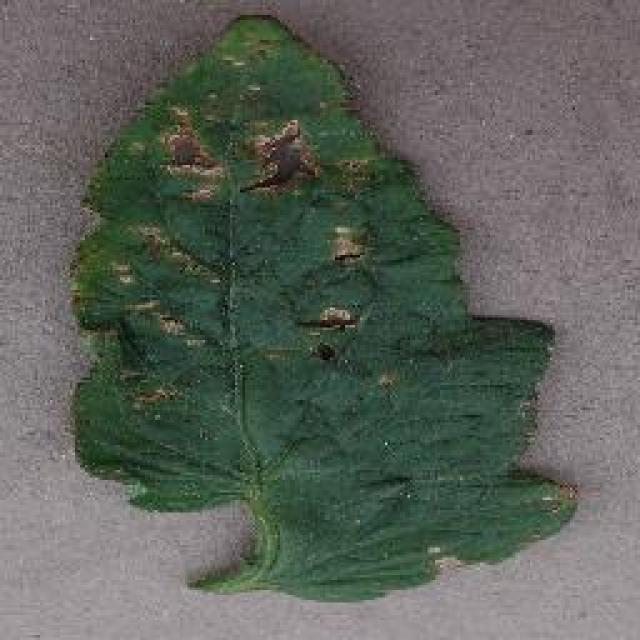Tomato bacterial spot leaf: (65, 10, 585, 605)
